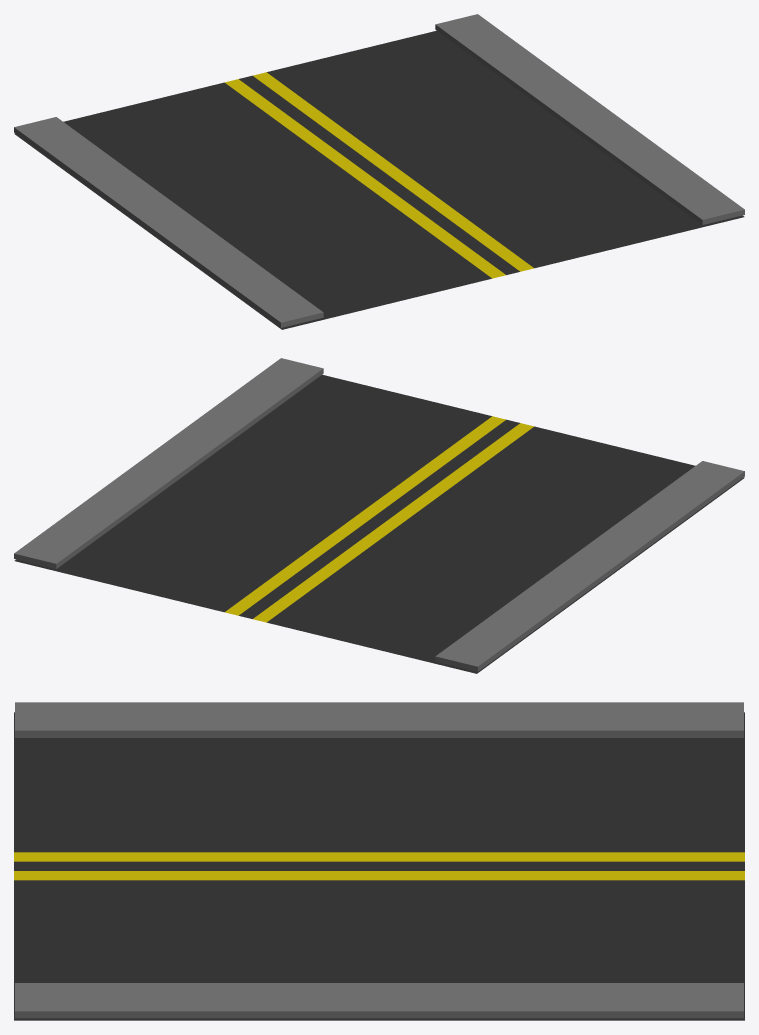
Rendered from Road.fbx.
The picture shows the model from 3 angles, top to bottom: view 1: azimuth 30°, elevation 25°; view 2: azimuth 150°, elevation 25°; view 3: azimuth 270°, elevation 25°; orthographic projection. The views are drawn at different scales.
Visible parts, largest first — view 1: pPlane1, pCube2, pCube1; view 2: pPlane1, pCube2, pCube1; view 3: pPlane1, pCube1, pCube2.
Part boxes in pixels (x1,y1,x2,y2): pPlane1: (14,30,744,329); pCube2: (435,14,744,224); pCube1: (14,117,323,327); pPlane1: (14,374,744,673); pCube2: (14,358,323,568); pCube1: (435,461,744,671); pPlane1: (14,712,744,1020); pCube1: (15,702,743,737); pCube2: (15,983,743,1018).
Size of the model in its own units: 24.05 by 0.3485 by 24.06.
